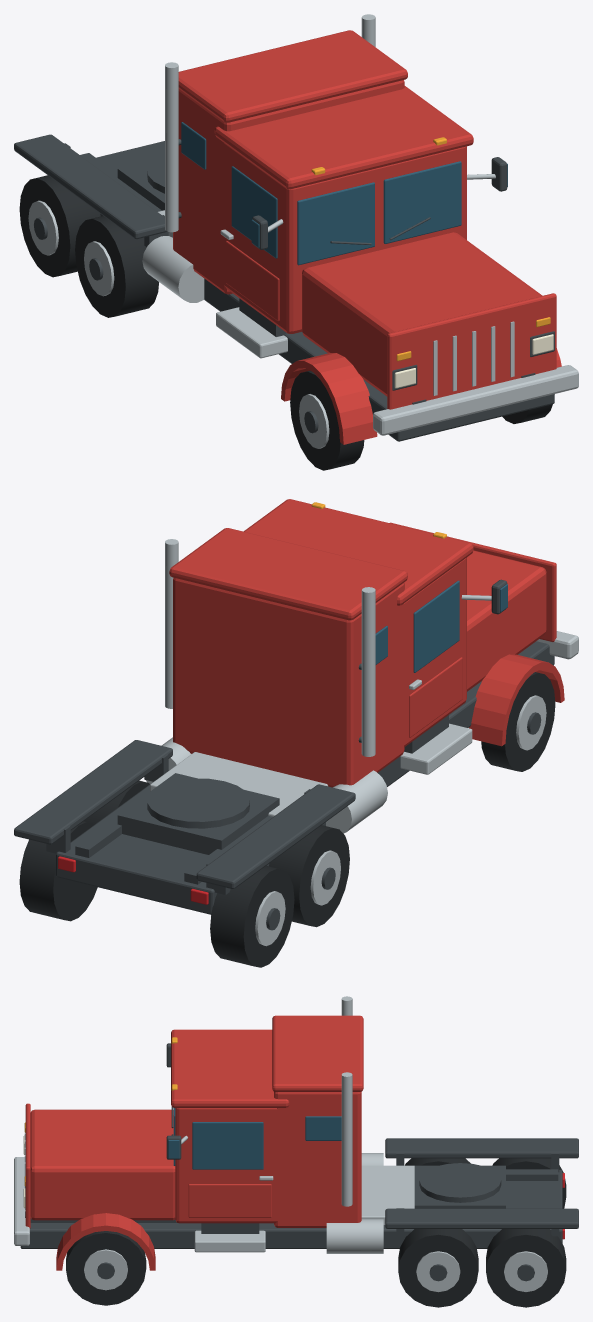
The model's file is semi_box_tractor.glb.
3 renders of one model, top to bottom at view 1: azimuth 30°, elevation 25°; view 2: azimuth 150°, elevation 25°; view 3: azimuth 270°, elevation 25°, orthographic. The views are drawn at different scales.
Parts seen in each view (by area): view 1: Tractor engine hood, Tractor cab roof, Sleeper rounded roof, Tractor front fascia, Tractor cab, Tall sleeper compartment, Tandem rear mudguard, Tractor front bumper, Tractor windshield.001, Tractor windshield, Tractor drive tire, Tractor chassis (+14 smaller); view 2: Tall sleeper compartment, Sleeper rounded roof, Tractor cab roof, Tractor chassis, Tractor engine hood, Tandem rear mudguard, Tandem rear mudguard.001, Tractor drive tire.002, Fifth wheel coupling plate, Fifth wheel mounting block, Tractor cab, Tractor painted front fender (+18 smaller); view 3: Tractor engine hood, Tall sleeper compartment, Tractor cab roof, Sleeper rounded roof, Tractor chassis, Tractor cab, Tandem rear mudguard.001, Tractor drive tire.001, Tractor drive tire.003, Tandem rear mudguard, Tractor front tire.001, Cab door side glass.001 (+18 smaller).
Part boxes in pixels (x1,y1,x2,y2): Tractor engine hood: (302, 232, 542, 396); Tractor cab roof: (214, 86, 473, 189); Sleeper rounded roof: (178, 30, 407, 122); Tractor front fascia: (387, 293, 556, 409); Tractor cab: (222, 142, 466, 333); Tall sleeper compartment: (173, 80, 404, 294); Tandem rear mudguard: (14, 134, 167, 239); Tractor front bumper: (373, 365, 578, 435); Tractor windshield.001: (383, 161, 461, 243); Tractor windshield: (297, 182, 374, 265); Tractor drive tire: (75, 216, 158, 317); Tractor chassis: (96, 141, 554, 441); Tall sleeper compartment: (173, 578, 404, 787); Sleeper rounded roof: (169, 528, 407, 620); Tractor cab roof: (243, 499, 473, 605); Tractor chassis: (56, 641, 554, 914); Tractor engine hood: (467, 550, 546, 691); Tandem rear mudguard: (196, 784, 355, 888); Tandem rear mudguard.001: (14, 740, 172, 844); Tractor drive tire.002: (210, 865, 294, 967); Fifth wheel coupling plate: (147, 778, 249, 828); Fifth wheel mounting block: (117, 773, 279, 854); Tractor cab: (404, 557, 466, 746); Tractor painted front fender: (469, 654, 564, 746); Tractor engine hood: (30, 1109, 175, 1220); Tall sleeper compartment: (274, 1091, 361, 1227); Tractor cab roof: (171, 1029, 289, 1107); Sleeper rounded roof: (272, 1015, 363, 1091); Tractor chassis: (20, 1169, 562, 1248); Tractor cab: (175, 1108, 280, 1223); Tandem rear mudguard.001: (385, 1208, 578, 1228); Tractor drive tire.001: (398, 1229, 478, 1307); Tractor drive tire.003: (486, 1229, 566, 1307); Tandem rear mudguard: (385, 1138, 578, 1158); Tractor front tire.001: (66, 1231, 146, 1305); Cab door side glass.001: (192, 1122, 263, 1169).
Size of the model in its own units: 3.12 by 3.44 by 7.74.
